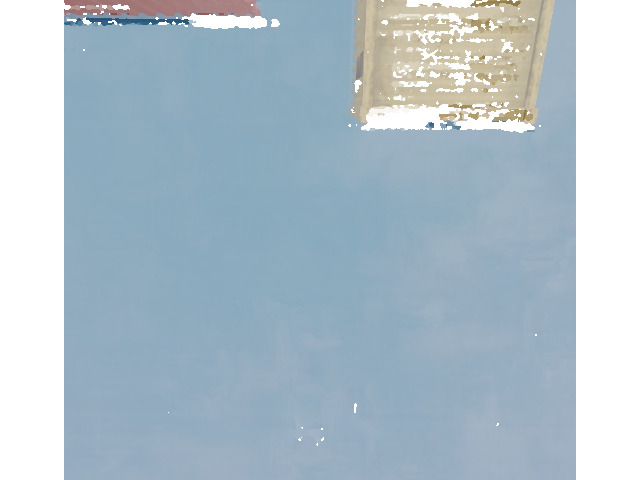container3: (349, 0, 557, 128)
container5: (0, 0, 272, 27)
